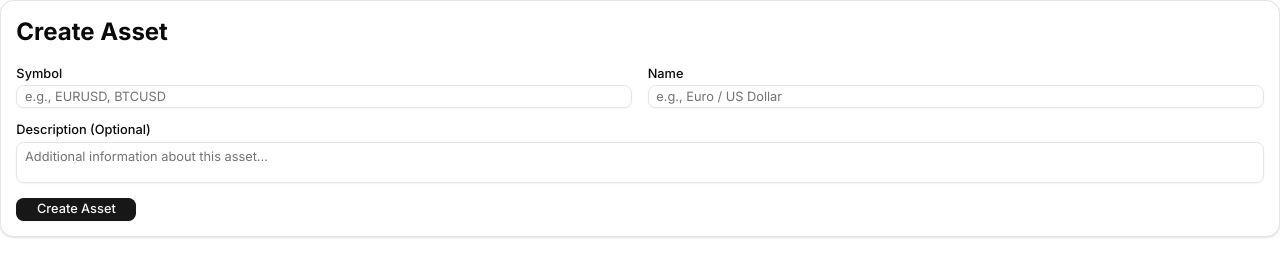
AssetForm › shows validation errors for invalid inputs
Click the button "Create Asset". click: coordinates (76, 210)
box: [16,198,136,221]
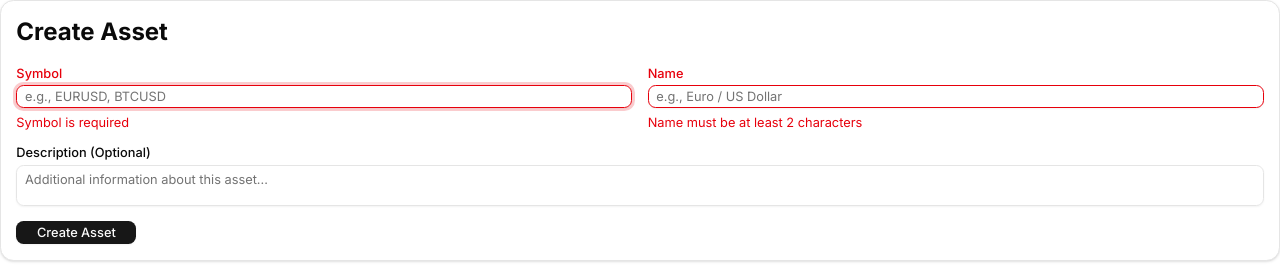
Expected: the text "Symbol is required" is shown, [16,115,129,130]
Expected: the text "Name must be at least 2 characters" is shown, [648,115,862,130]
